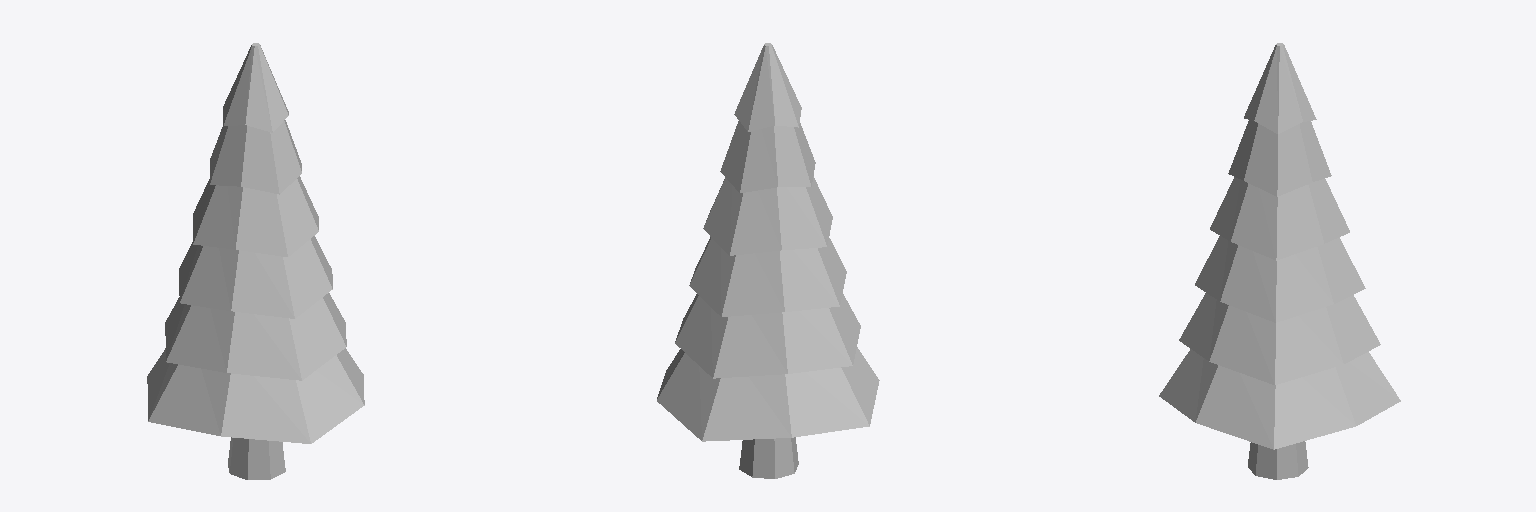
Rendered from Arvore 3.obj.
3 views of the same model, side by side, from view 1: azimuth 30°, elevation 25°; view 2: azimuth 150°, elevation 25°; view 3: azimuth 270°, elevation 25° (orthographic).
Parts seen in each view (by area): view 1: Cylinder.006_Cylinder.009; view 2: Cylinder.006_Cylinder.009; view 3: Cylinder.006_Cylinder.009.
Boxes of the visible parts, <box> form: Cylinder.006_Cylinder.009: <box>147,43,364,479</box>; Cylinder.006_Cylinder.009: <box>657,43,879,478</box>; Cylinder.006_Cylinder.009: <box>1159,43,1400,479</box>.
Bounding box in the file's own units: 3.33 × 6.41 × 3.33.